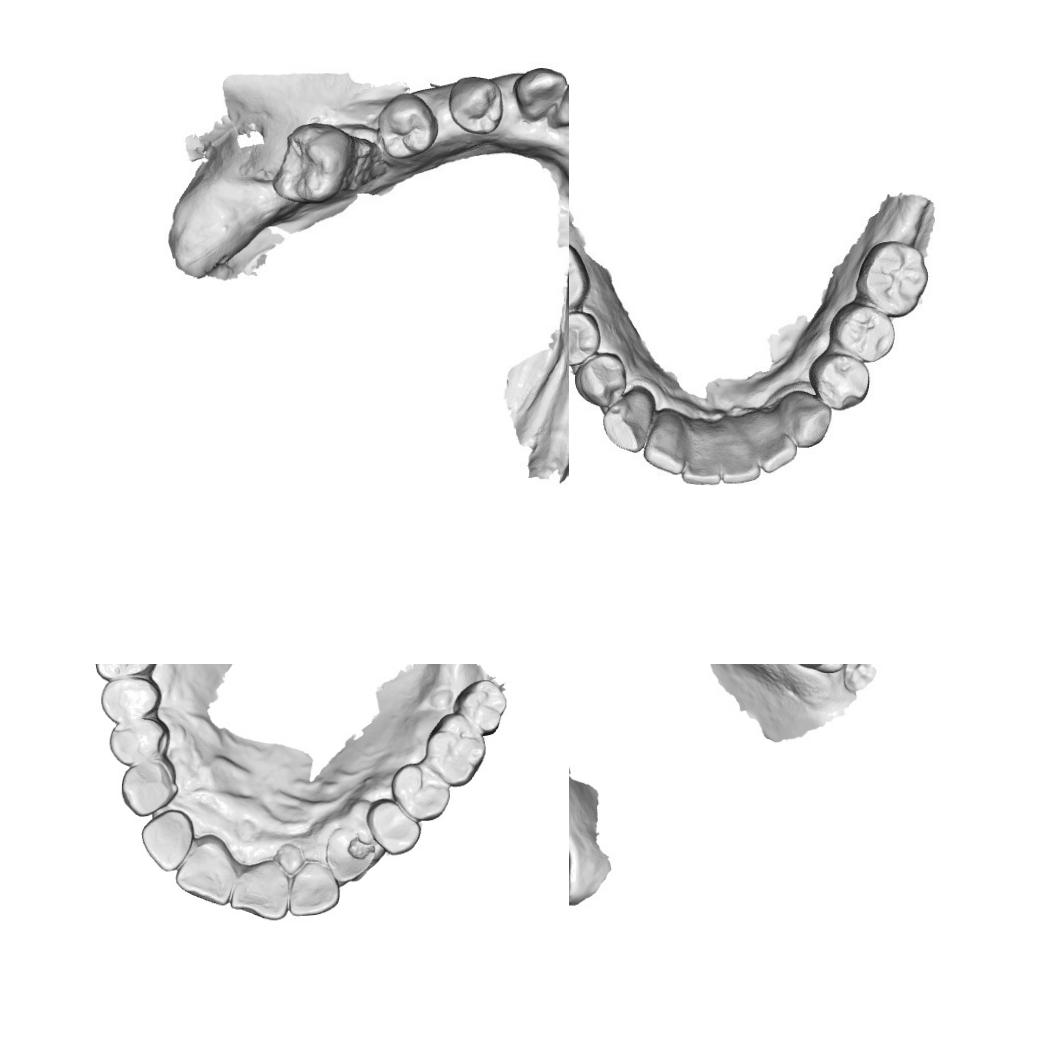canine: (118, 760, 179, 817), (782, 387, 836, 450), (600, 392, 648, 458), (324, 826, 378, 884), (513, 67, 569, 122)
incisor: (174, 833, 238, 906), (229, 858, 290, 922), (139, 809, 195, 872), (748, 404, 795, 472), (288, 858, 341, 918), (723, 412, 759, 482), (646, 412, 685, 474), (687, 422, 720, 481)
molar: (272, 121, 356, 206), (423, 711, 487, 788), (862, 241, 925, 316), (452, 678, 507, 736), (93, 664, 159, 681)
premolar: (376, 90, 438, 159), (390, 761, 450, 823), (834, 305, 896, 362), (365, 797, 422, 856), (106, 716, 170, 766), (452, 74, 504, 133), (100, 676, 162, 725), (578, 352, 630, 406), (815, 354, 867, 408), (569, 314, 599, 365)
